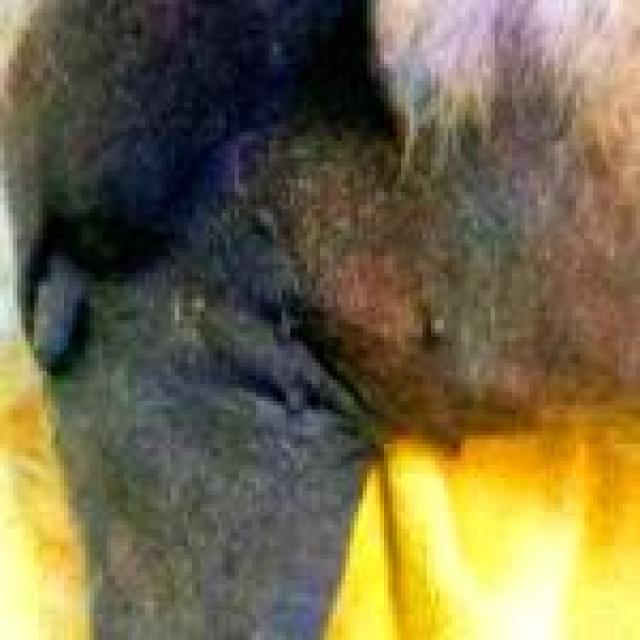fungal infection: (279, 139, 418, 284), (349, 302, 426, 405), (549, 238, 614, 359), (572, 115, 640, 208), (168, 280, 219, 340)
